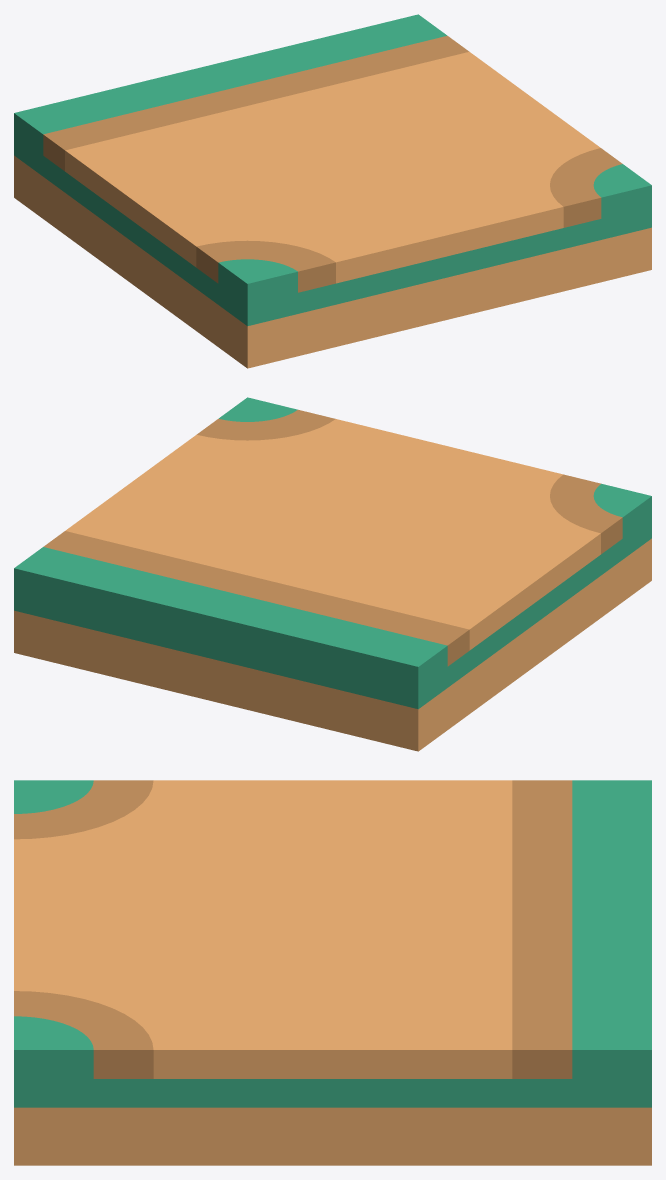
Rendered from tile_split(+).fbx.
3 views of the same model, one above another, from view 1: azimuth 30°, elevation 25°; view 2: azimuth 150°, elevation 25°; view 3: azimuth 270°, elevation 25° (orthographic). The views are drawn at different scales.
Visible parts, largest first — view 1: Mesh_1; view 2: Mesh_1; view 3: Mesh_1.
Part boxes in pixels (x1,y1,x2,y2): Mesh_1: (14,14,651,368); Mesh_1: (14,397,651,751); Mesh_1: (14,780,651,1165).
Bounding box in the file's own units: 100 × 20 × 100.
